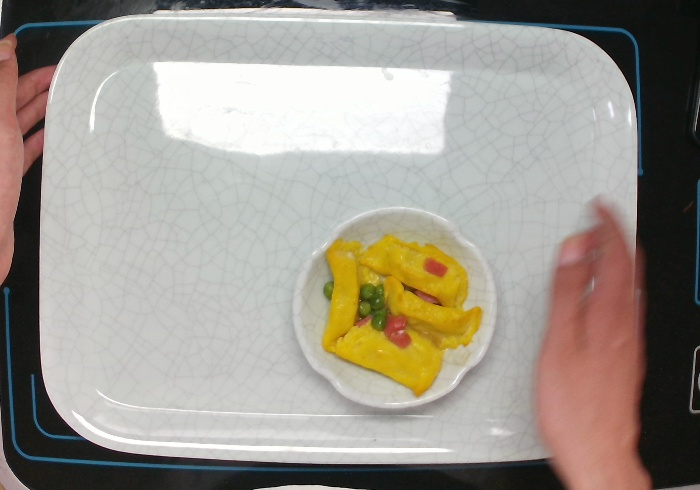JYsf-Ao_Yuan_Wan: (289, 205, 499, 411)
